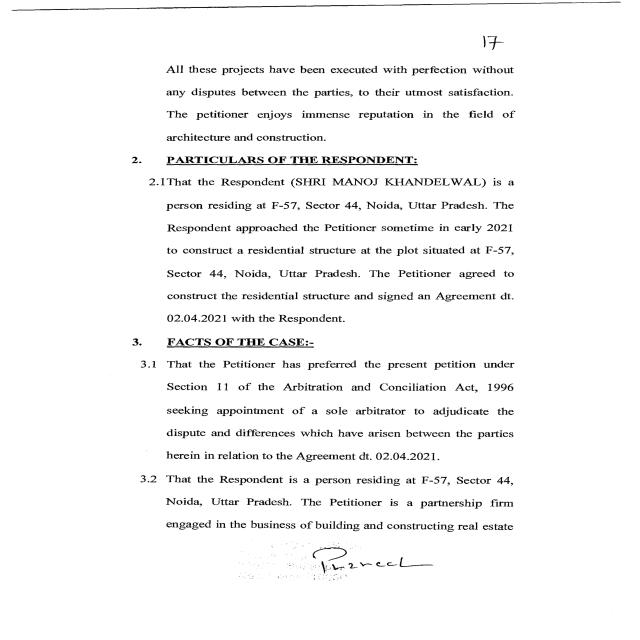page-number: (326, 0, 588, 63)
